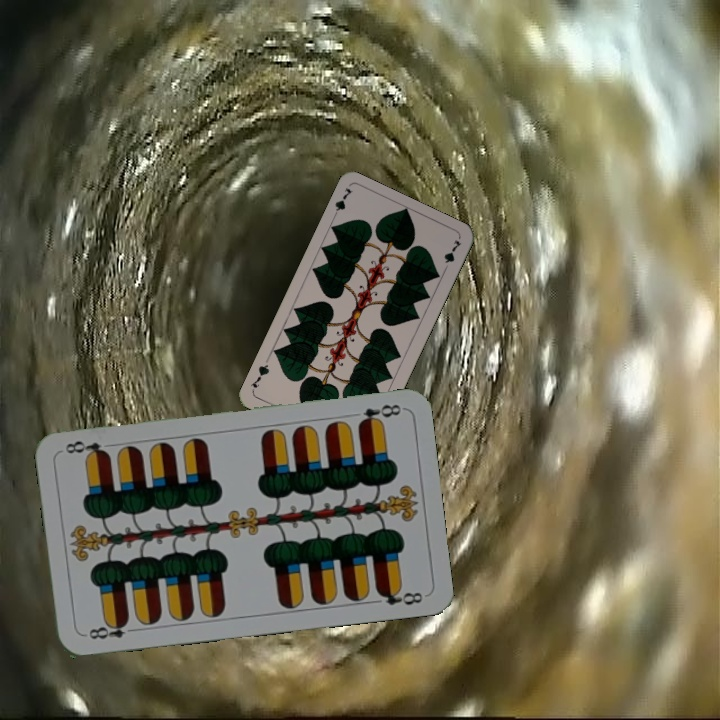E8: (85, 616, 140, 642), (354, 400, 405, 428)
G7: (329, 184, 355, 222)
